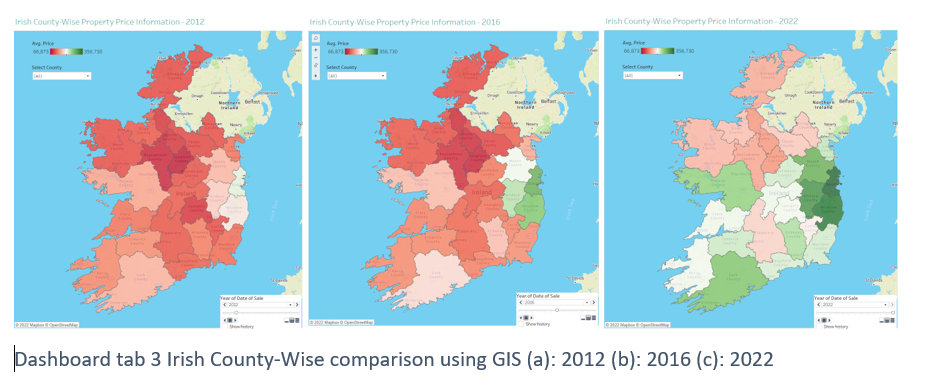

What the dashboard file says about the page in this screenshot:
{"tool":"tableau","page":{"name":"Dashboard 4","canvas":[1000,1000],"units":"permille","ordinal":3},"visuals":[{"type":"worksheet","title":"map","mark":"Automatic","box":[4.9,9.3,495.1,981.4]},{"type":"worksheet","title":"geocode map","mark":"Multipolygon","rows":["latitude"],"cols":["longitude"],"box":[500,9.3,495.1,981.4]},{"type":"legend","title":"geocode map","param":"[federated.0an098a064b5pk1emv2na1psuenl].[none:Price:qk]","box":[520.3,84.8,127.9,102.2]},{"type":"legend","title":"map","param":"[federated.07a3ll50a723xf15cofd61t04h0r].[avg:Price:qk]","box":[37.5,88.3,122.4,66.2]},{"type":"filter","title":"map","param":"[federated.07a3ll50a723xf15cofd61t04h0r].[none:County:nk]","box":[36.9,161.4,103.3,70.9]},{"type":"currpage","title":"map","box":[357.9,861.8,138.4,122]},{"type":"currpage","title":"geocode map","box":[834,861.8,155,119.6]}]}

Visuals, with their boxes on the dashboard's canvas, which has no fixed pixel size, in thousandths of its width and height (x1, y1, x2, y2). These are canvas units, not pixel positions in the 929x387 screenshot, which may show the page scaled, cropped or inside an application window:
"map" worksheet: box(5, 9, 500, 991)
"geocode map" worksheet (Multipolygon marks): box(500, 9, 995, 991)
"geocode map" legend: box(520, 85, 648, 187)
"map" legend: box(38, 88, 160, 154)
"map" filter: box(37, 161, 140, 232)
"map" currpage: box(358, 862, 496, 984)
"geocode map" currpage: box(834, 862, 989, 981)
